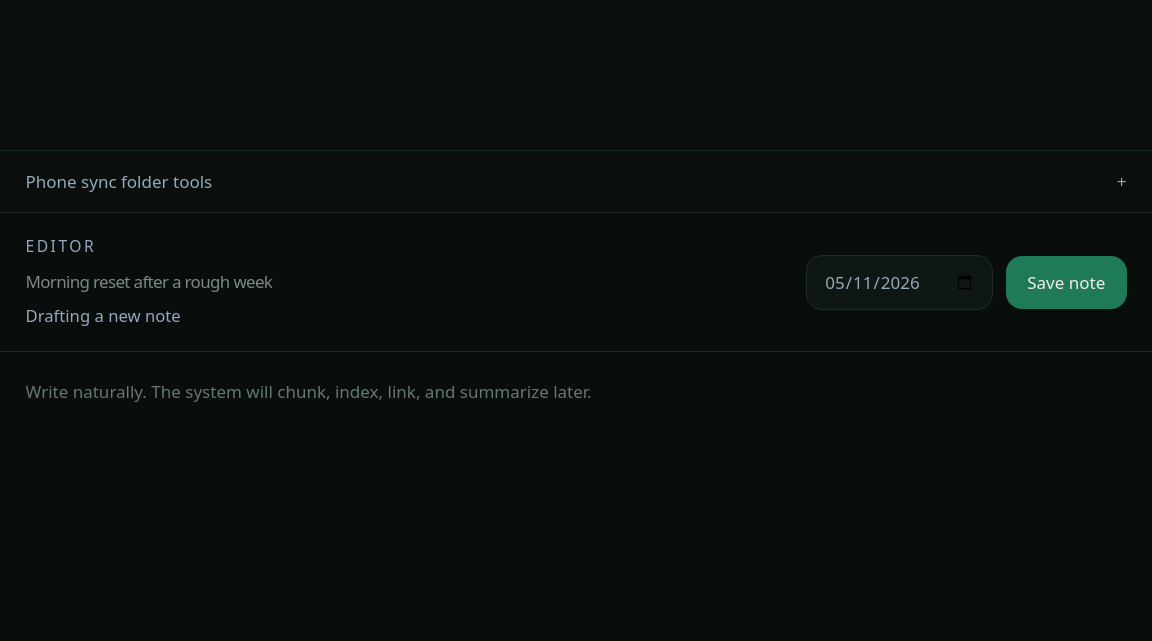
Scenario: NotesWorkspace › blocks saving short content before the backend returns 422
The image size is (1152, 641).
(page scrolled)
expect the button "Save note" is enabled: met, box [1006,256,1126,308]
Type "Short note" into the field with placeholder "Morning reset after a rough week" at (407, 281), box [26,268,789,295]
(page scrolled)
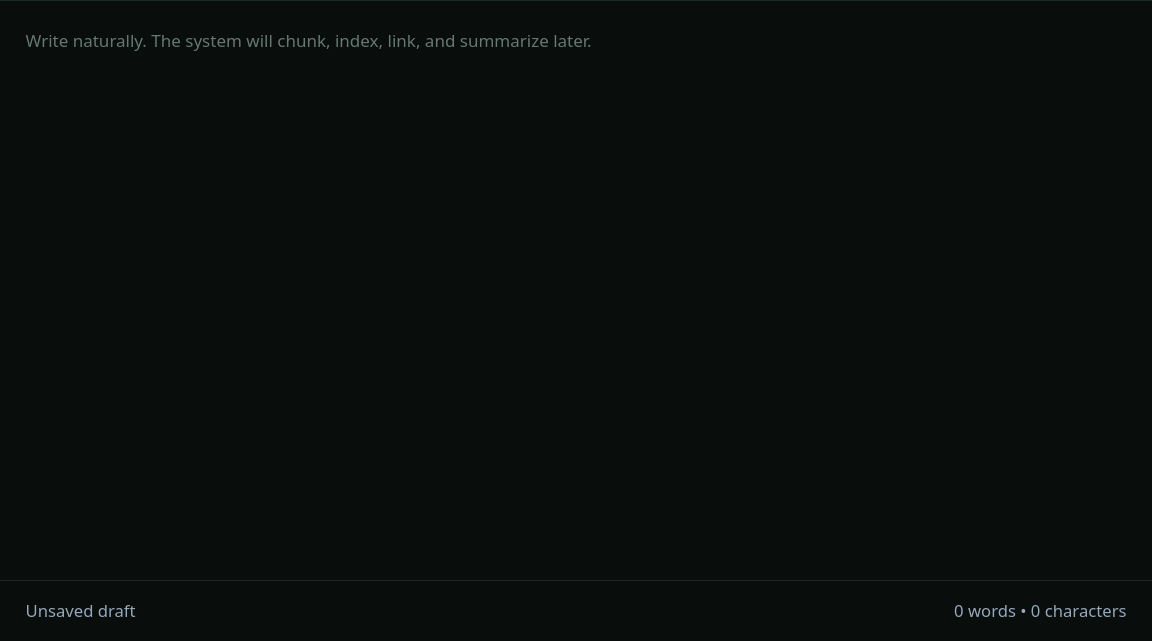
Replace the text in the text box with placeholder "Write naturally" with "Too short to save" at (576, 290), box [26,27,1126,554]
(page scrolled)
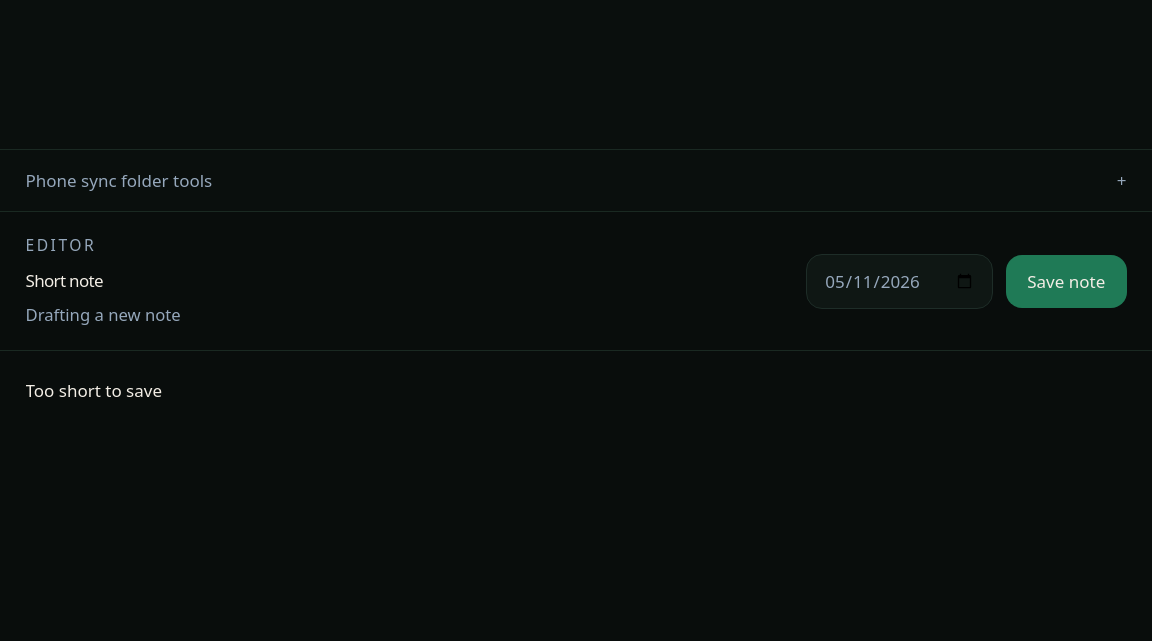
Click the button "Save note" at (1066, 281), box [1006,255,1126,308]
(page scrolled)
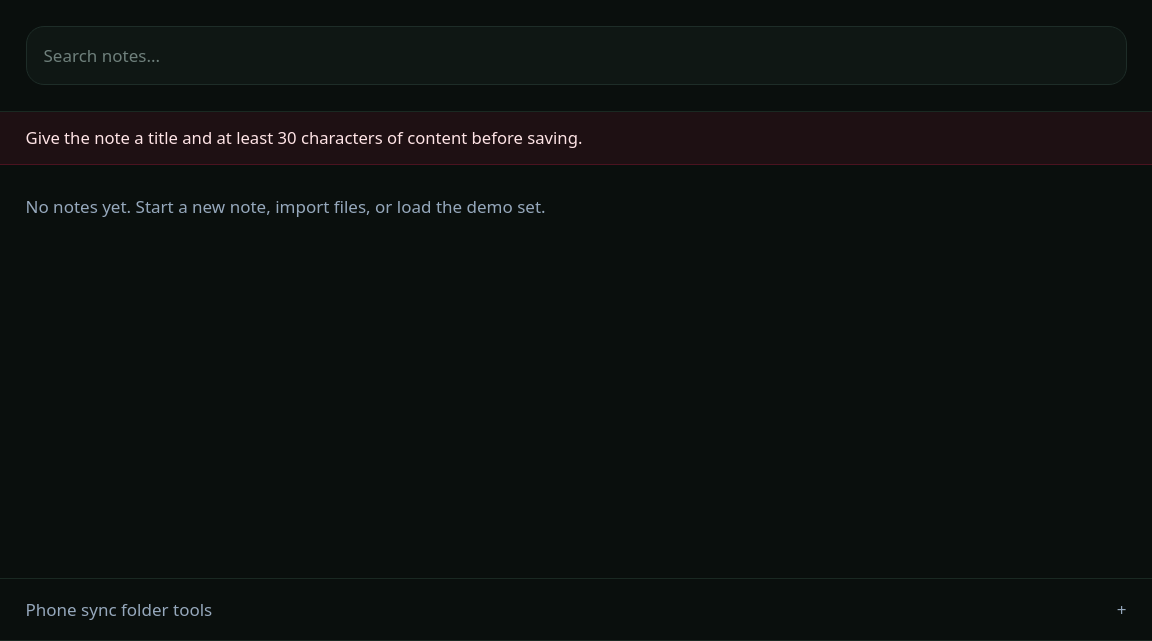
expect the text "at least 30 characters of content before saving" is shown: met, box [26,126,582,149]
